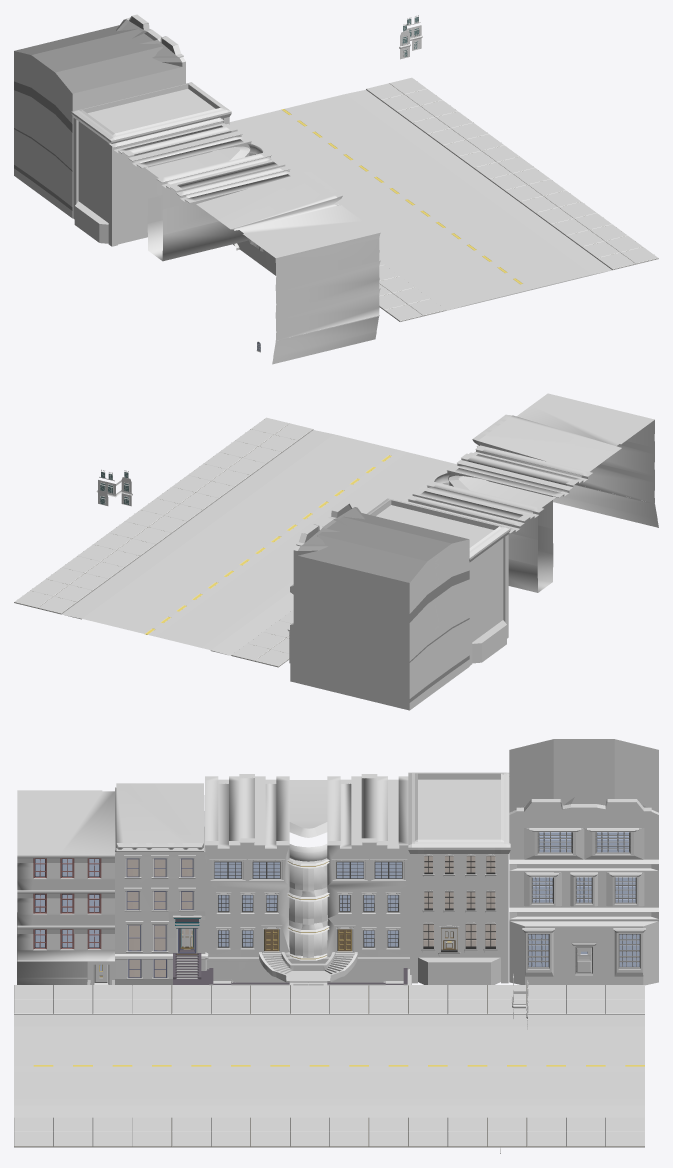
File: uploads_files_2286740_build.fbx
The picture shows the model from 3 angles, top to bottom: view 1: azimuth 30°, elevation 25°; view 2: azimuth 150°, elevation 25°; view 3: azimuth 270°, elevation 25°; orthographic projection. The views are drawn at different scales.
Visible parts, largest first — view 1: Vert.004, Vert.003_Vert.008, Cube.001, Cube, Vert.008_Vert.009; view 2: Vert.004, Cube.001, Vert.003_Vert.008, Cube, Vert.008_Vert.009; view 3: Vert.004, Vert.003_Vert.008, Cube.001, Cube, Vert.007.
Boxes of the visible parts, x1,y1,x2,y2 form: Vert.004: (229, 77, 658, 321); Vert.003_Vert.008: (109, 117, 380, 364); Cube.001: (14, 14, 185, 218); Cube: (71, 82, 231, 246); Vert.008_Vert.009: (399, 15, 422, 59); Vert.004: (14, 417, 457, 667); Cube.001: (287, 502, 469, 710); Vert.003_Vert.008: (406, 393, 658, 592); Cube: (367, 498, 510, 665); Vert.008_Vert.009: (96, 469, 132, 506); Vert.004: (14, 985, 644, 1147); Vert.003_Vert.008: (17, 774, 411, 985); Cube.001: (509, 739, 658, 985); Cube: (408, 772, 510, 984); Vert.007: (571, 941, 597, 977).
Bounding box in the file's own units: 5954 × 3514 × 6542.
